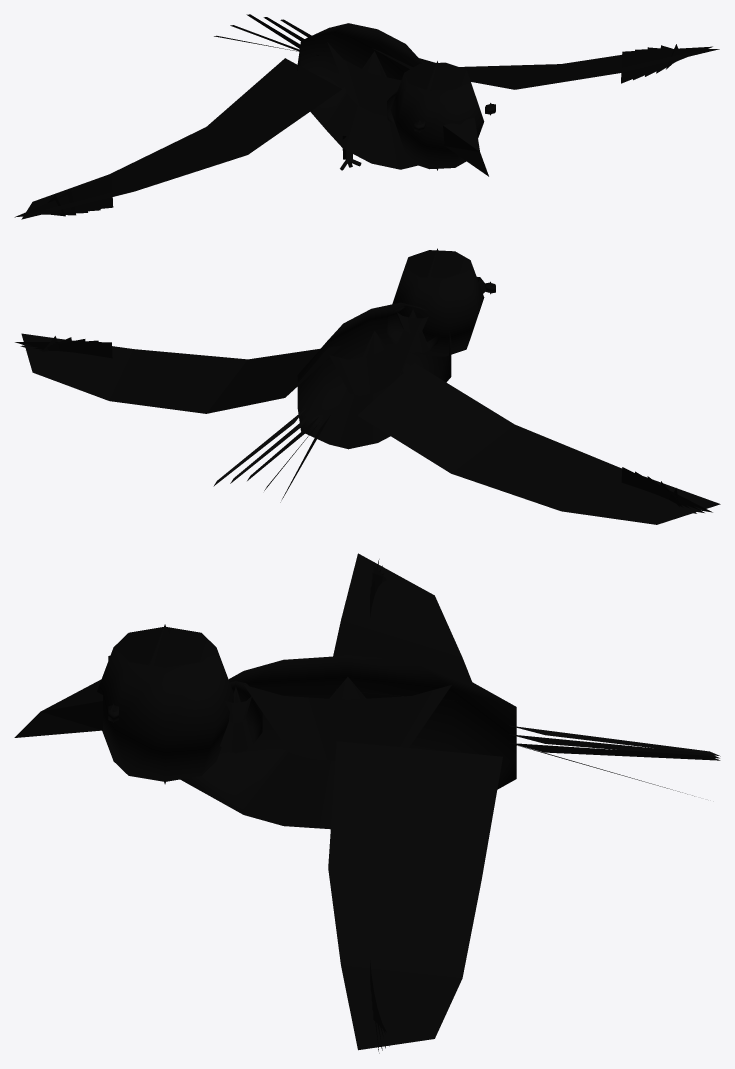
File: gliding_00.glb
3 renders of one model, top to bottom at view 1: azimuth 30°, elevation 25°; view 2: azimuth 150°, elevation 25°; view 3: azimuth 270°, elevation 25°, orthographic. The views are drawn at different scales.
Parts seen in each view (by area): view 1: RaptorBody; view 2: RaptorBody; view 3: RaptorBody.
Part boxes in pixels (x1,y1,x2,y2): RaptorBody: (14,14,719,219); RaptorBody: (15,248,720,524); RaptorBody: (14,553,720,1053).
Bounding box in the file's own units: 1.99 × 0.3983 × 1.19.
Materials: 7 (7 with a texture image).
